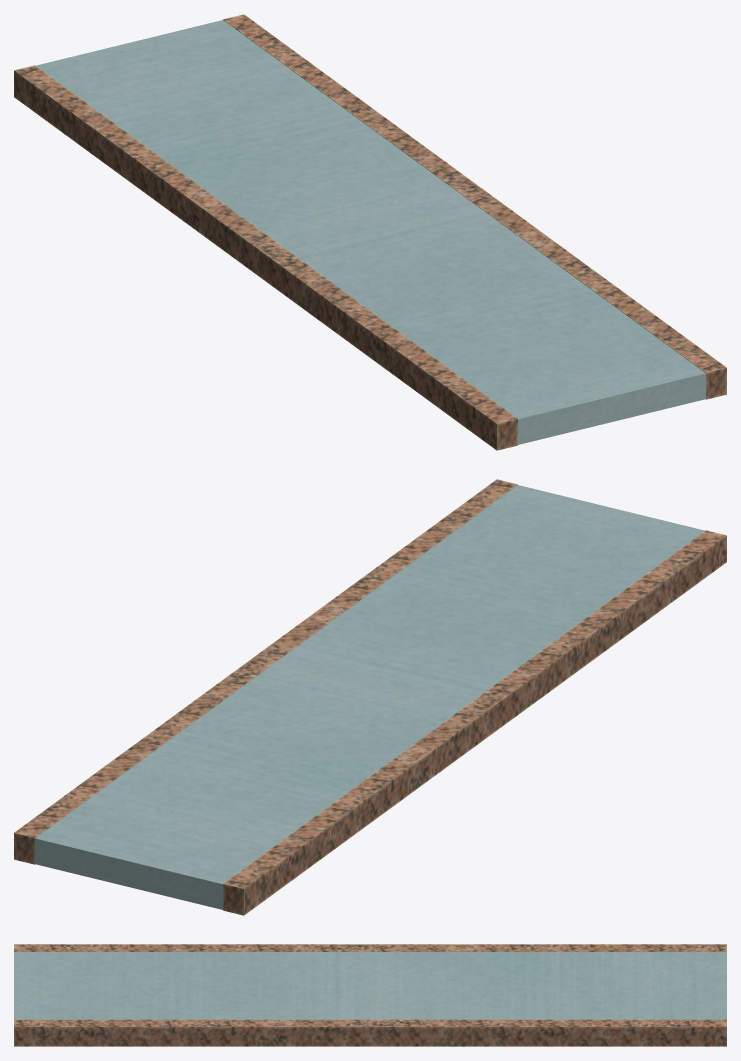
Rendered from set_base_b_01.fbx.
3 views of the same model, one above another, from view 1: azimuth 30°, elevation 25°; view 2: azimuth 150°, elevation 25°; view 3: azimuth 270°, elevation 25° (orthographic). The views are drawn at different scales.
Parts seen in each view (by area): view 1: set_base_b_01; view 2: set_base_b_01; view 3: set_base_b_01.
Part boxes in pixels (left/top/right/bottom): set_base_b_01: left=14, top=14, right=726, bottom=450; set_base_b_01: left=14, top=479, right=726, bottom=915; set_base_b_01: left=14, top=944, right=726, bottom=1046.
Bounding box in the file's own units: 110 × 12.25 × 400.
